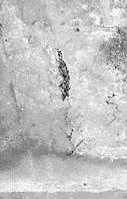Spalling: (98, 26, 127, 81), (56, 50, 71, 102)
